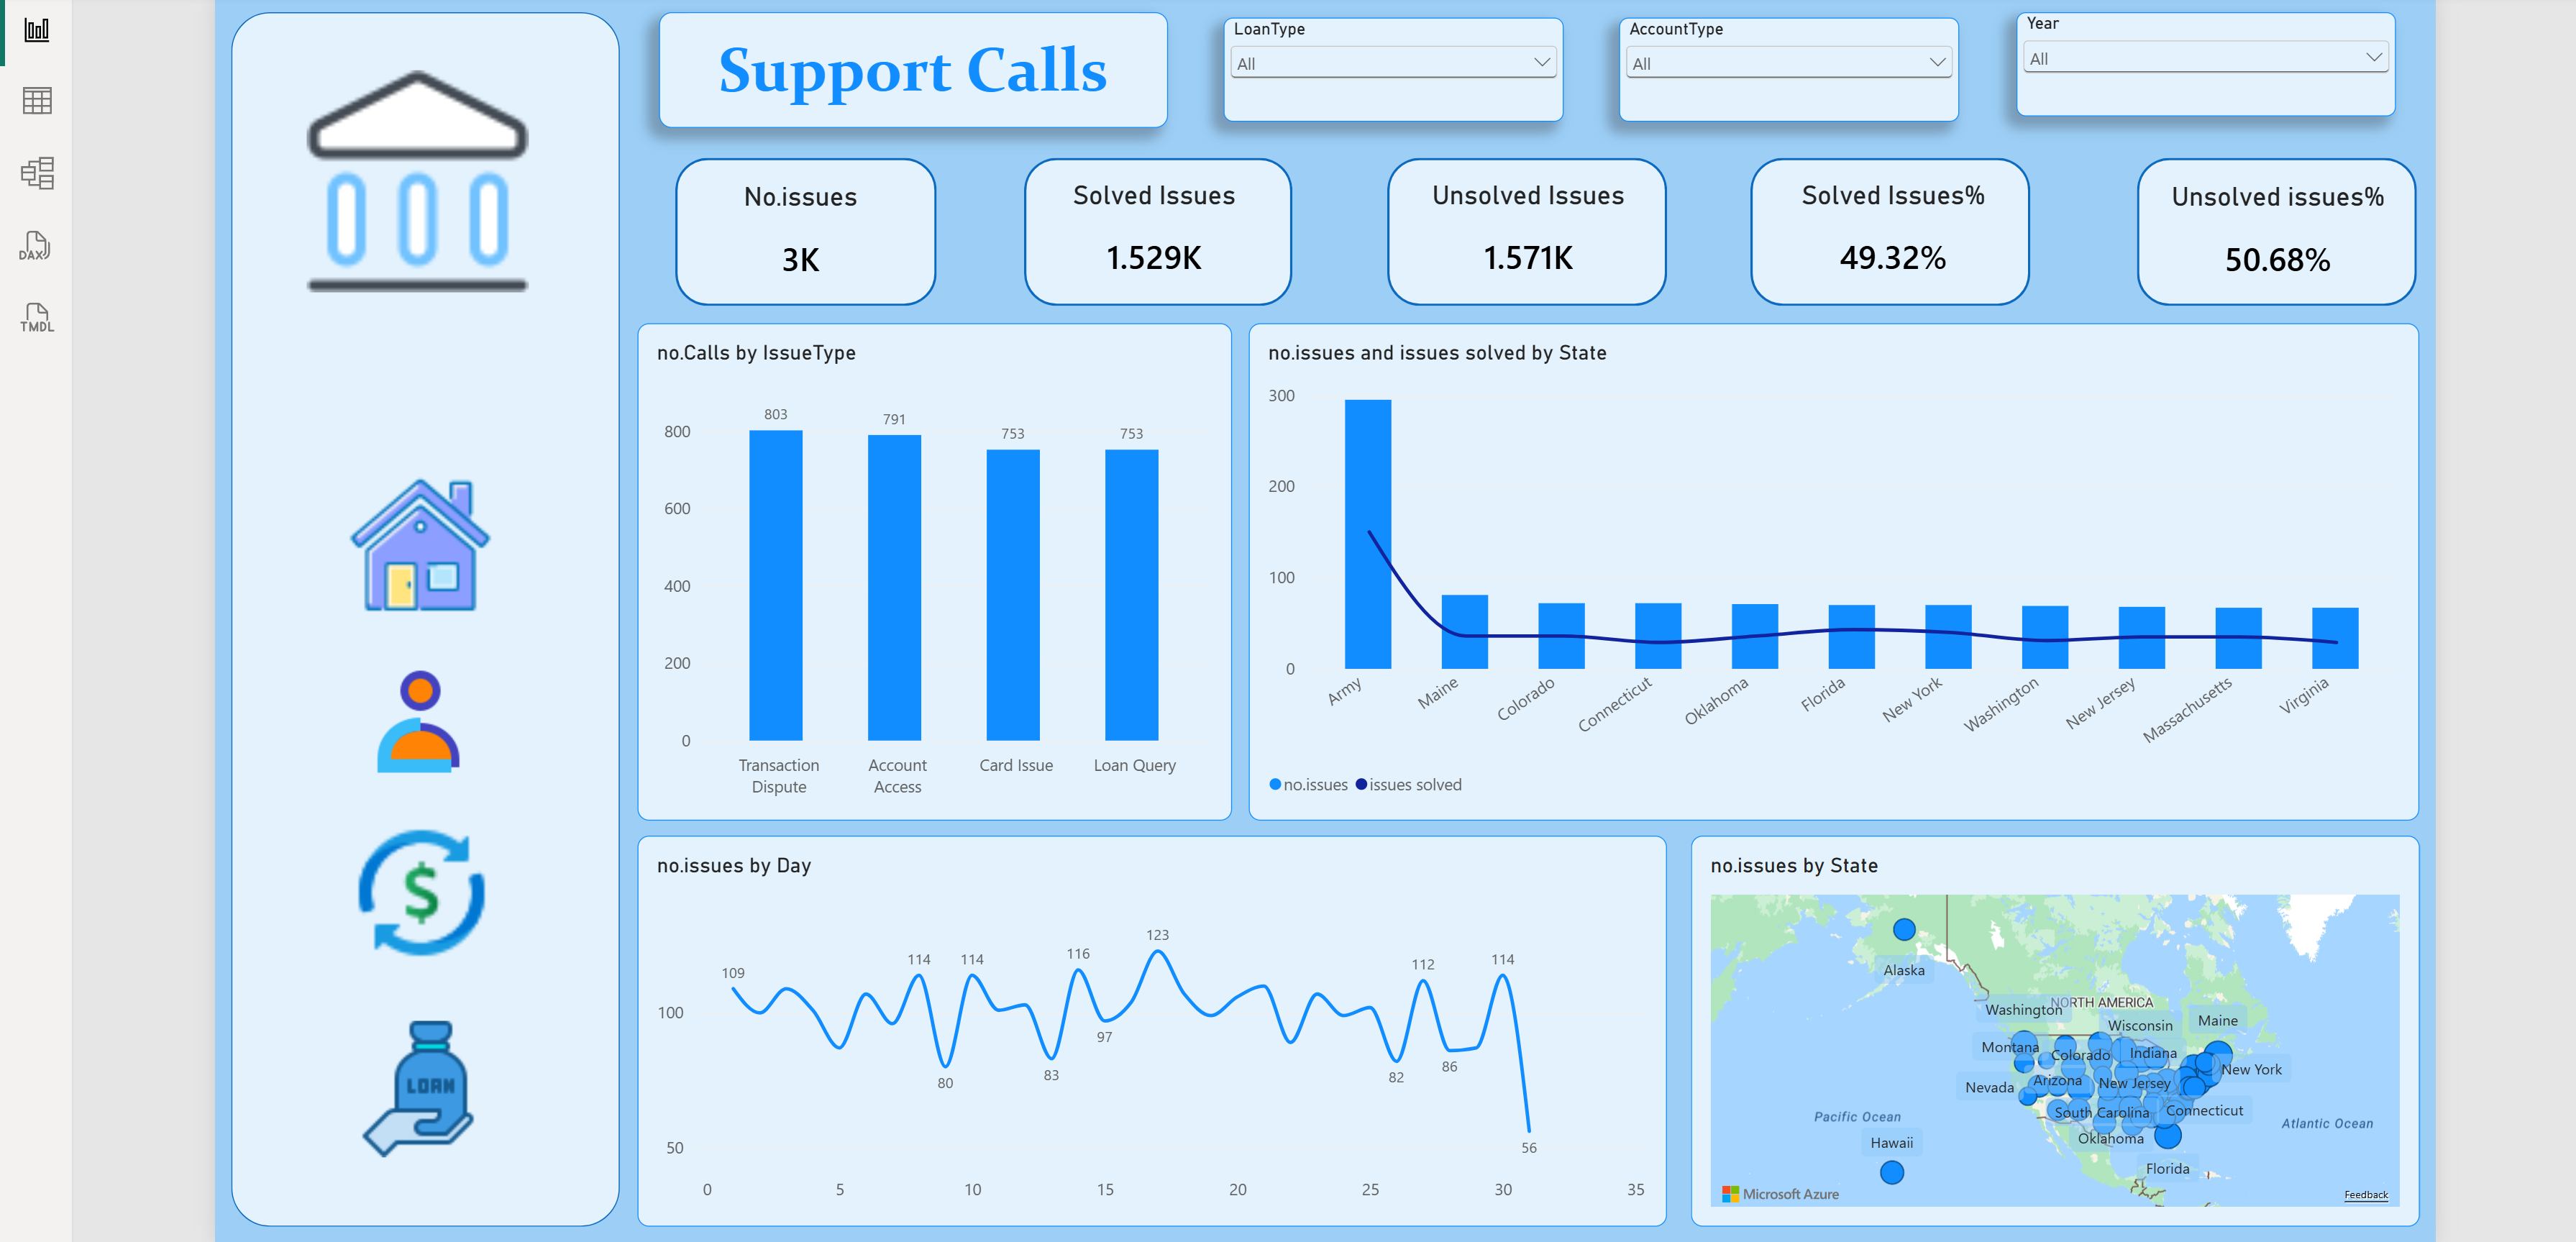

Layout of this report page (visuals, bound fields, positions):
{"tool":"powerbi","page":{"name":"SupportCalls","canvas":[1920,1080],"ordinal":5},"visuals":[{"type":"shape","box":[1662,142,242,128],"z":0},{"type":"shape","box":[1328,142,242,128],"z":1000},{"type":"shape","box":[1014,142,242,128],"z":2000},{"type":"shape","box":[700,142,232,128],"z":3000},{"type":"shape","box":[398,142,226,128],"z":4000},{"type":"shape","box":[14,16,336,1050],"z":5000},{"type":"cardVisual","title":"No.issues","fields":{"Data":["SupportCalls.no.issues"]},"box":[438,162,136,90],"z":6000},{"type":"cardVisual","title":"Solved Issues%","fields":{"Data":["customer service.Issues Solved%"]},"box":[1350,160,204,90],"z":7000},{"type":"cardVisual","title":"Unsolved issues%","fields":{"Data":["customer service.Unsolved Issues%"]},"box":[1682,162,204,90],"z":8000},{"type":"cardVisual","title":"Unsolved Issues","fields":{"Data":["customer service.Unsolved.issues"]},"box":[1034,160,204,90],"z":9000},{"type":"cardVisual","title":"Solved Issues","fields":{"Data":["customer service.issues solved"]},"box":[732,160,160,90],"z":10000},{"type":"columnChart","fields":{"Category":["SupportCalls.IssueType"],"Y":["customer service.no.Calls"]},"box":[366,284,514,430],"z":11000},{"type":"lineClusteredColumnComboChart","fields":{"Category":["customers.State"],"Y":["SupportCalls.no.issues"],"Y2":["customer service.issues solved"]},"box":[894,284,1012,430],"z":12000},{"type":"lineChart","fields":{"Category":["calender.Date.Variation.Date Hierarchy.Year","calender.Date.Variation.Date Hierarchy.Quarter","calender.Date.Variation.Date Hierarchy.Month","calender.Date.Variation.Date Hierarchy.Day"],"Y":["SupportCalls.no.issues"]},"box":[366,728,890,338],"z":13000},{"type":"azureMap","fields":{"Category":["customers.State"],"Size":["SupportCalls.no.issues"]},"box":[1276,728,630,338],"z":14000},{"type":"image","box":[80,64,192,196],"z":15000},{"type":"image","box":[74,408,206,134],"z":16000},{"type":"image","box":[92,712,174,130],"z":17000},{"type":"image","box":[66,572,222,116],"z":18000},{"type":"image","box":[116,888,118,118],"z":19000},{"type":"slicer","fields":{"Values":["calender.Year"]},"box":[1558,16,328,90],"z":19001},{"type":"slicer","fields":{"Values":["Accounts.AccountType"]},"box":[1214,20,294,90],"z":19002},{"type":"slicer","fields":{"Values":["Loans.LoanType"]},"box":[872,20,294,90],"z":19003},{"type":"shape","title":"Over","box":[384,16,440,100],"z":19004}]}

Visuals, with their boxes on the page's 1920x1080 design canvas (x1, y1, x2, y2). These are canvas units, not pixel positions in the 2576x1242 screenshot, which may show the page scaled, cropped or inside an application window:
shape: <bbox>1662, 142, 1904, 270</bbox>
shape: <bbox>1328, 142, 1570, 270</bbox>
shape: <bbox>1014, 142, 1256, 270</bbox>
shape: <bbox>700, 142, 932, 270</bbox>
shape: <bbox>398, 142, 624, 270</bbox>
shape: <bbox>14, 16, 350, 1066</bbox>
"No.issues" cardVisual: <bbox>438, 162, 574, 252</bbox>
"Solved Issues%" cardVisual: <bbox>1350, 160, 1554, 250</bbox>
"Unsolved issues%" cardVisual: <bbox>1682, 162, 1886, 252</bbox>
"Unsolved Issues" cardVisual: <bbox>1034, 160, 1238, 250</bbox>
"Solved Issues" cardVisual: <bbox>732, 160, 892, 250</bbox>
columnChart - SupportCalls.IssueType x customer service.no.Calls: <bbox>366, 284, 880, 714</bbox>
lineClusteredColumnComboChart - customers.State x SupportCalls.no.issues: <bbox>894, 284, 1906, 714</bbox>
lineChart - calender.Date.Variation.Date Hierarchy.Year x calender.Date.Variation.Date Hierarchy.Quarter: <bbox>366, 728, 1256, 1066</bbox>
azureMap - customers.State x SupportCalls.no.issues: <bbox>1276, 728, 1906, 1066</bbox>
image: <bbox>80, 64, 272, 260</bbox>
image: <bbox>74, 408, 280, 542</bbox>
image: <bbox>92, 712, 266, 842</bbox>
image: <bbox>66, 572, 288, 688</bbox>
image: <bbox>116, 888, 234, 1006</bbox>
slicer - calender.Year: <bbox>1558, 16, 1886, 106</bbox>
slicer - Accounts.AccountType: <bbox>1214, 20, 1508, 110</bbox>
slicer - Loans.LoanType: <bbox>872, 20, 1166, 110</bbox>
"Over" shape: <bbox>384, 16, 824, 116</bbox>
